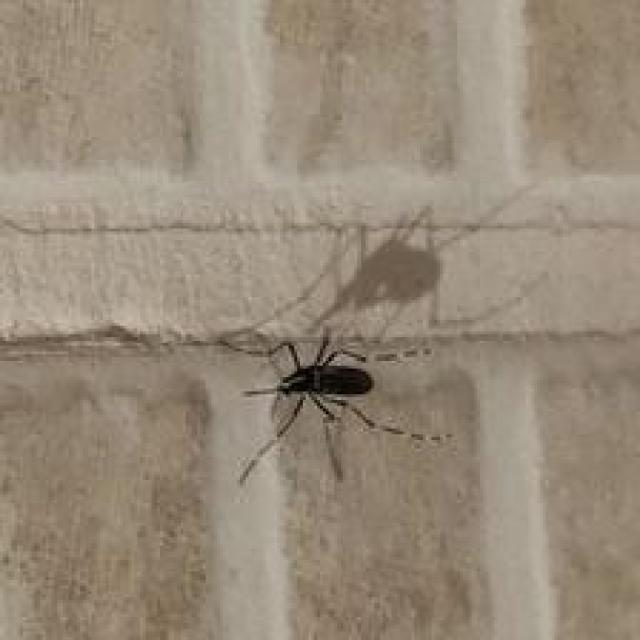Aedes albopictus: (224, 326, 453, 486)
